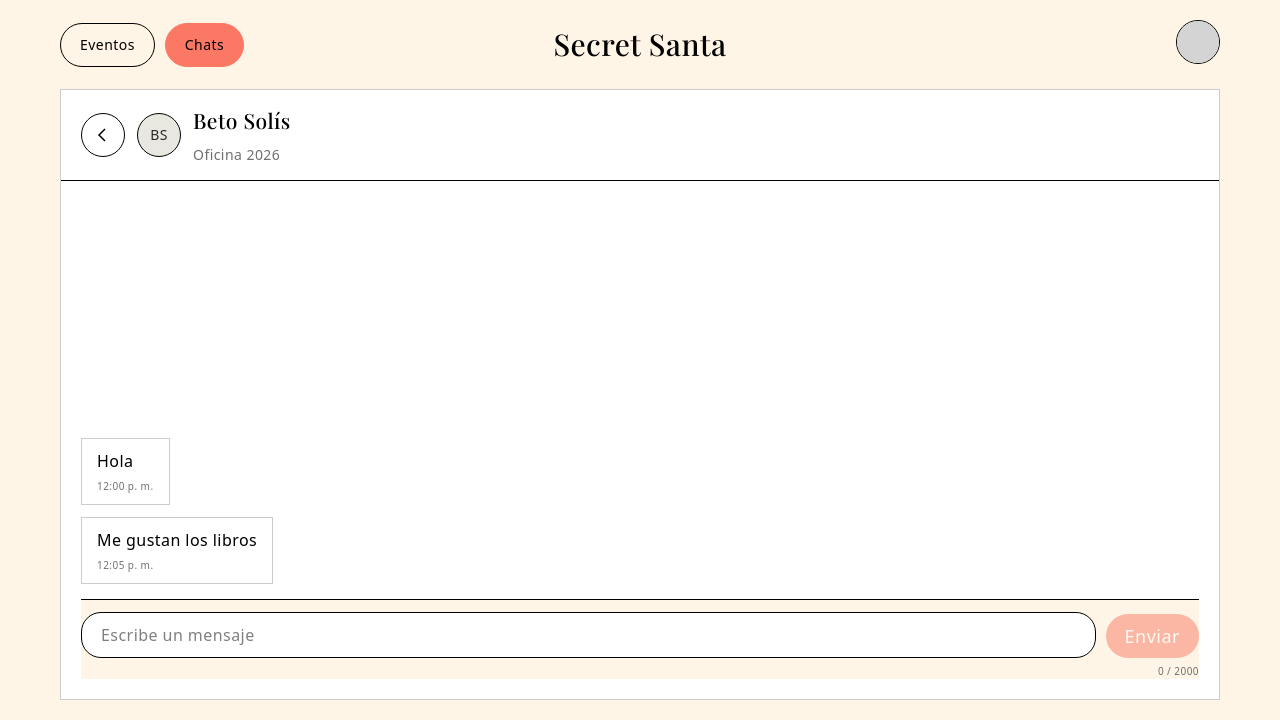
Thread page › a refused send is marked failed with Retry, and Retry sends it again
Expected: the list named "Mensajes" is shown, [81,438,273,584]
Type "otra vez" into the text box named "Escribir un mensaje" at [588, 635], box [81,612,1096,658]
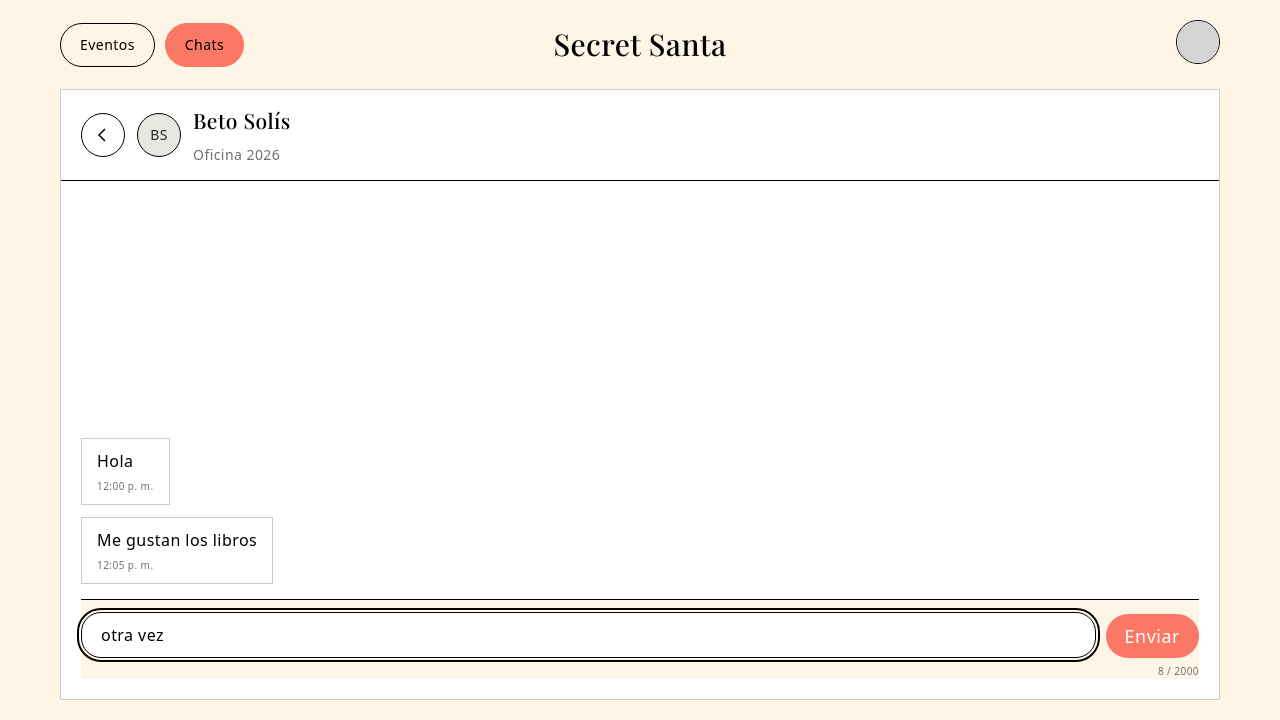
Click the button "Enviar" at [1152, 636], box [1106,614,1199,658]
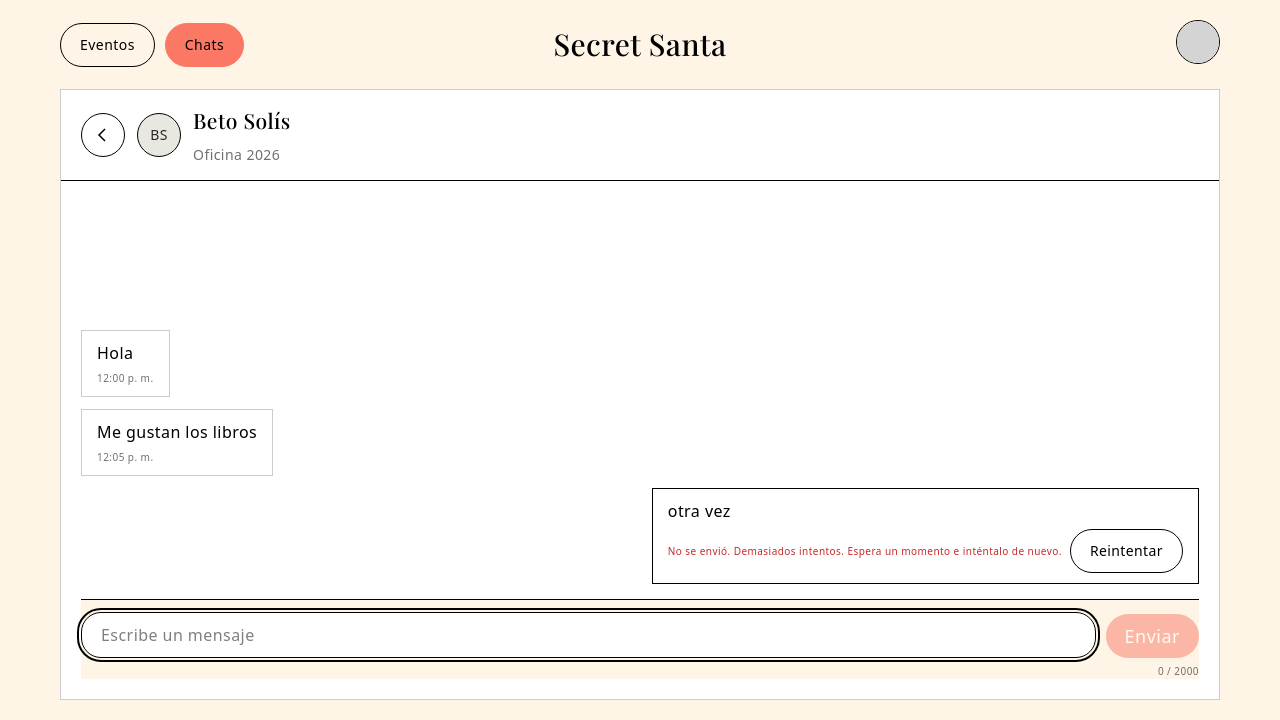
Click the button "Reintentar" at [1126, 551], box [1070,529,1183,573]
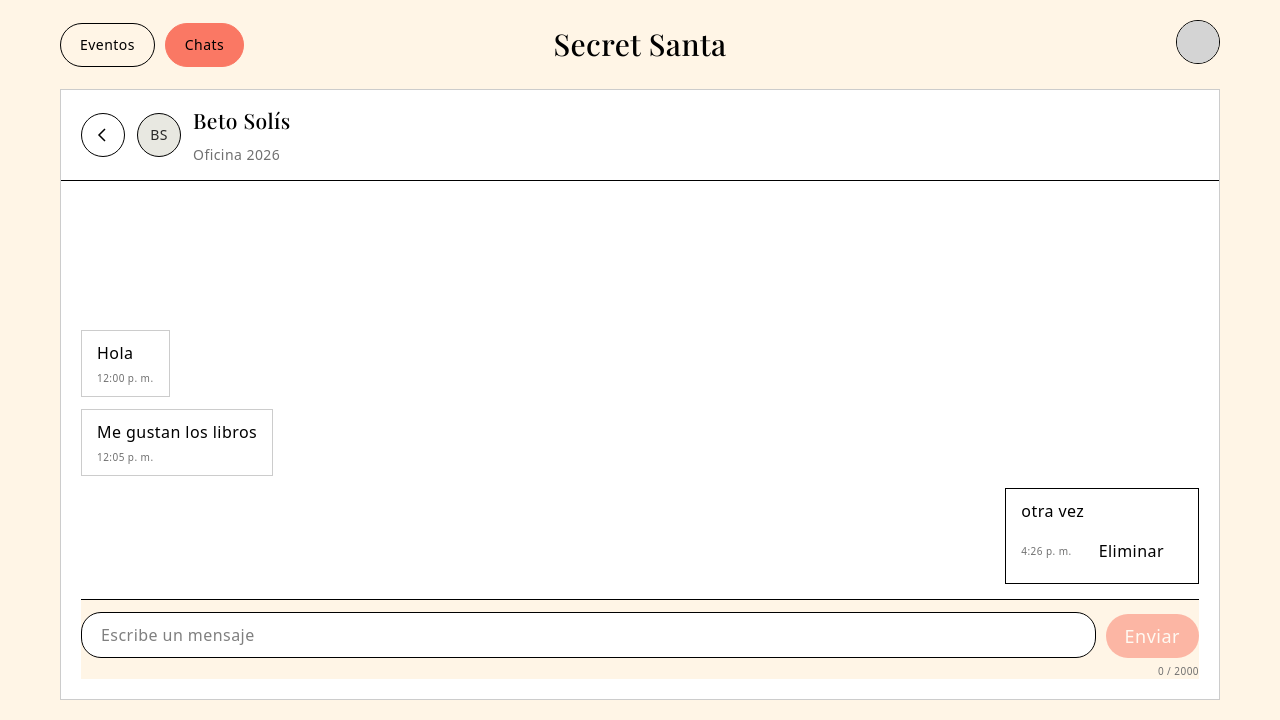
Now the button "Reintentar" is gone
